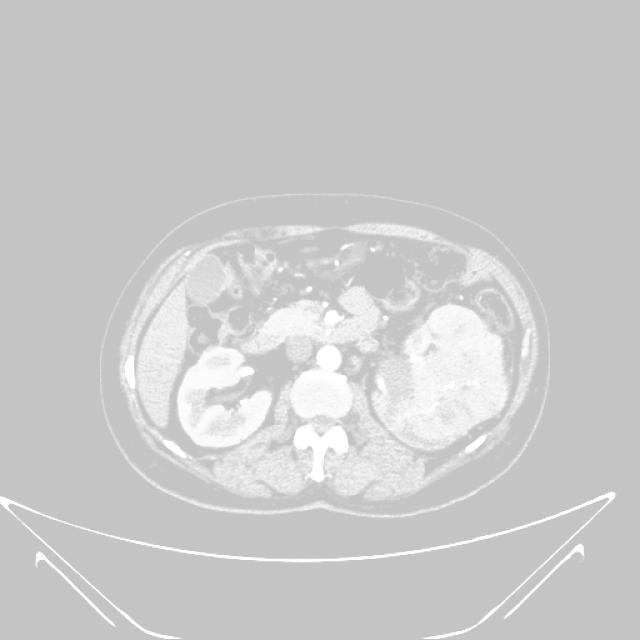TUMOR: (129, 291, 519, 446)
